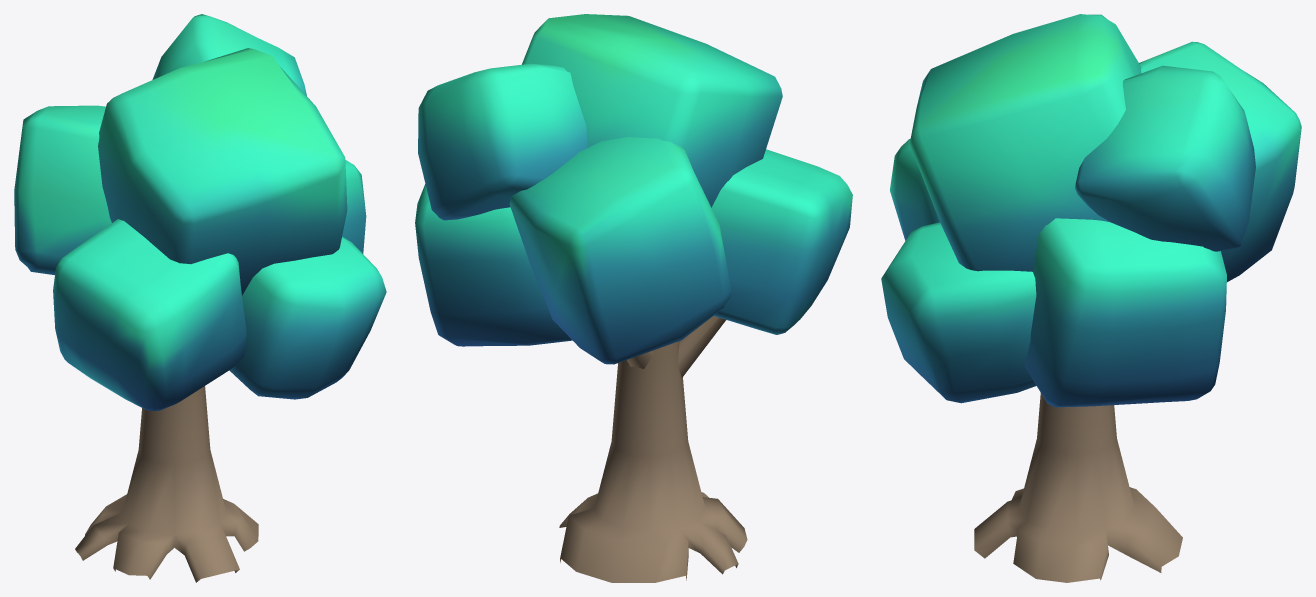
The model's file is Tree_Cube_Summer.fbx.
3 renders of one model, left to right at view 1: azimuth 30°, elevation 25°; view 2: azimuth 150°, elevation 25°; view 3: azimuth 270°, elevation 25°, orthographic. The views are drawn at different scales.
Parts seen in each view (by area): view 1: Tree_Cube_Summer; view 2: Tree_Cube_Summer; view 3: Tree_Cube_Summer.
Part boxes in pixels (bbox=[...]): Tree_Cube_Summer: bbox=[14, 14, 386, 582]; Tree_Cube_Summer: bbox=[415, 14, 852, 582]; Tree_Cube_Summer: bbox=[881, 14, 1301, 582].
Size of the model in its own units: 126 by 171 by 124.
